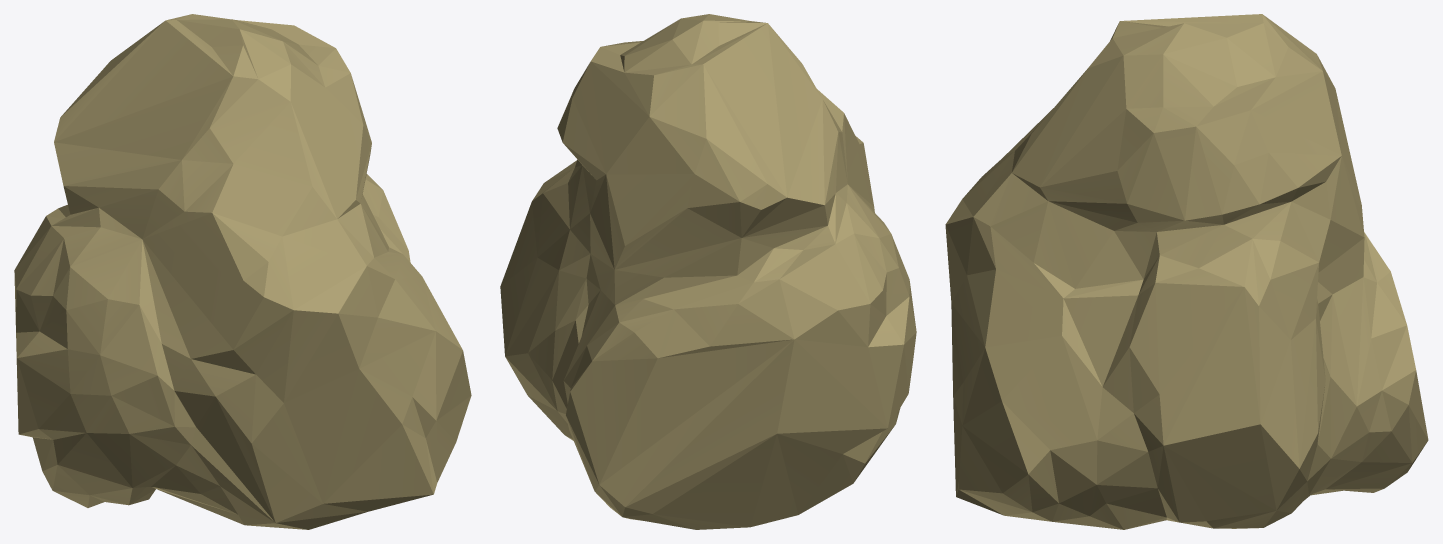
File: SM_rock_76.fbx
3 views of the same model, side by side, from view 1: azimuth 30°, elevation 25°; view 2: azimuth 150°, elevation 25°; view 3: azimuth 270°, elevation 25° (orthographic). The views are drawn at different scales.
Parts seen in each view (by area): view 1: rock_76; view 2: rock_76; view 3: rock_76.
Part boxes in pixels (x1=…): rock_76: x1=14, y1=14, x2=471, y2=529; rock_76: x1=500, y1=14, x2=916, y2=529; rock_76: x1=945, y1=14, x2=1428, y2=529.
Size of the model in its own units: 100 by 116 by 101.
